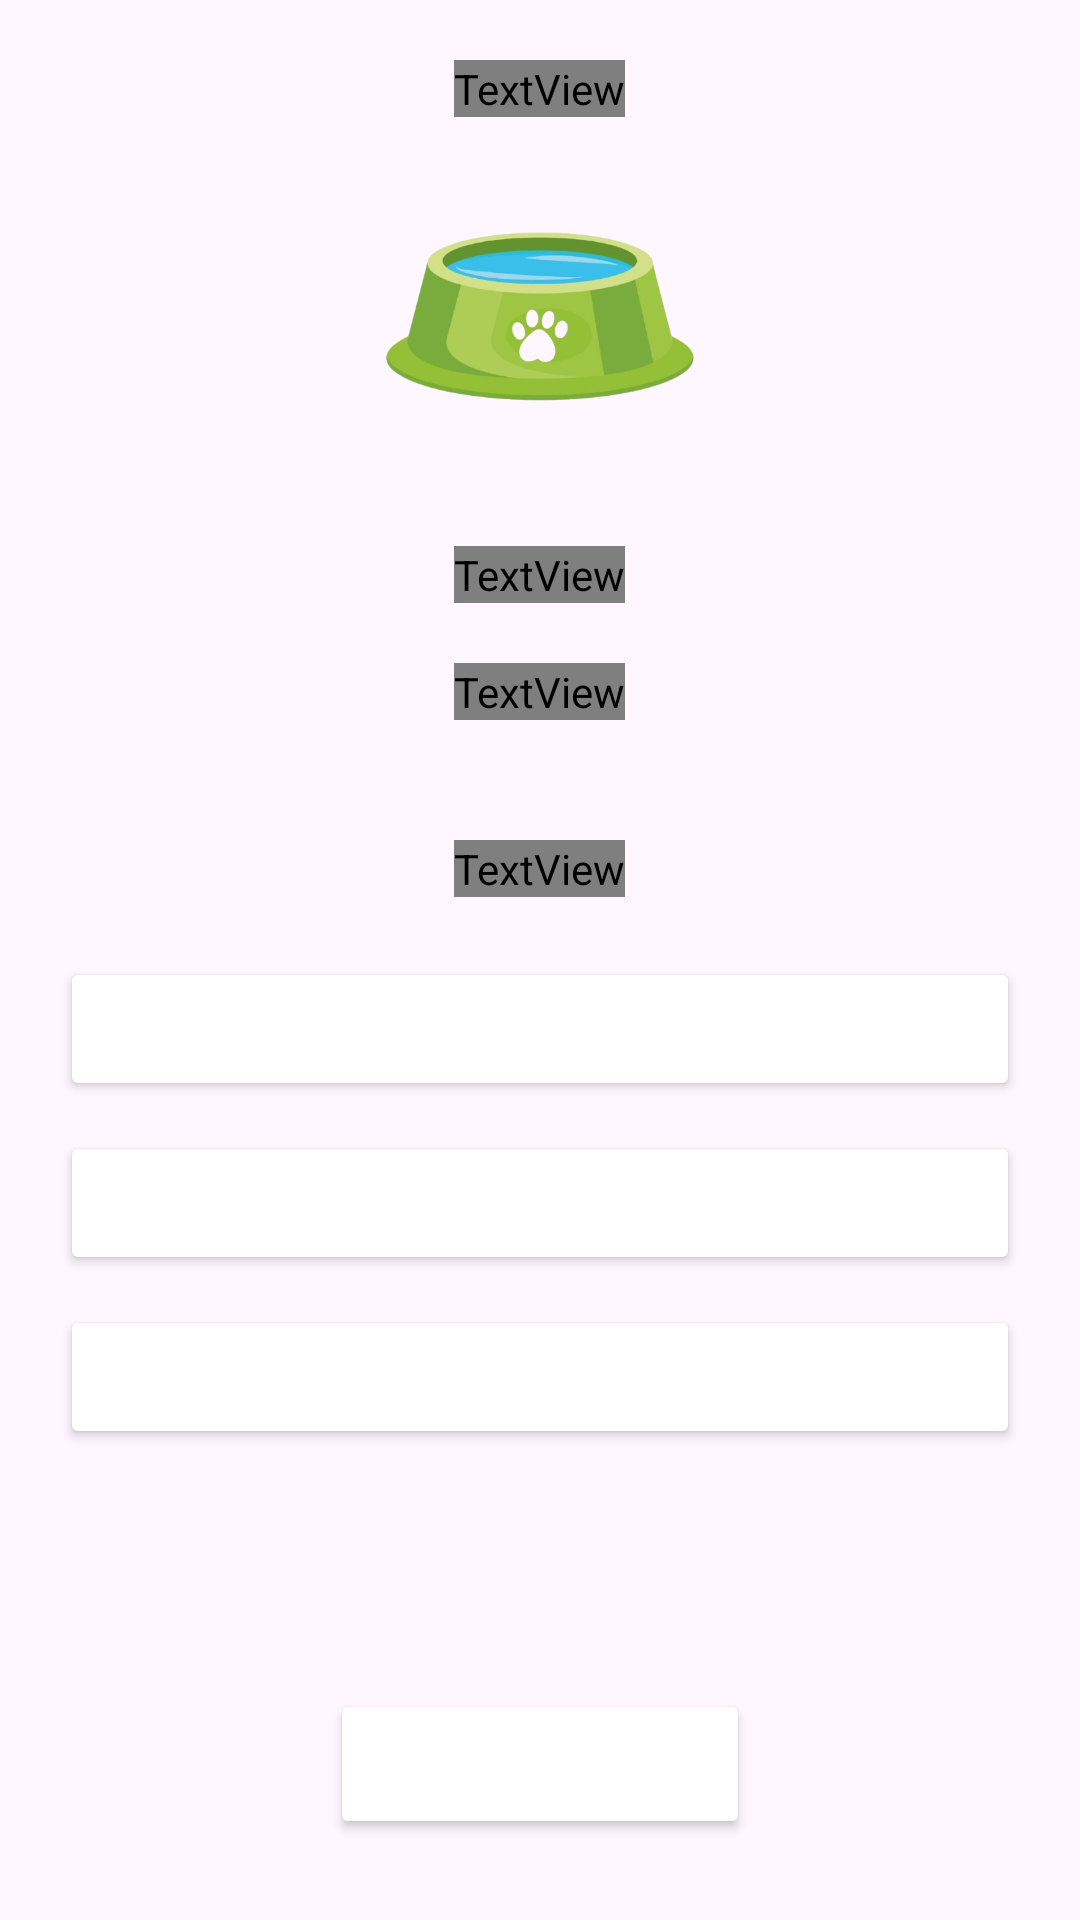

Locate icon controls on the screen. Image size 1080 x 1920, boxes as (x1, y1, x2, y2).
agua: (386, 232, 694, 401)
